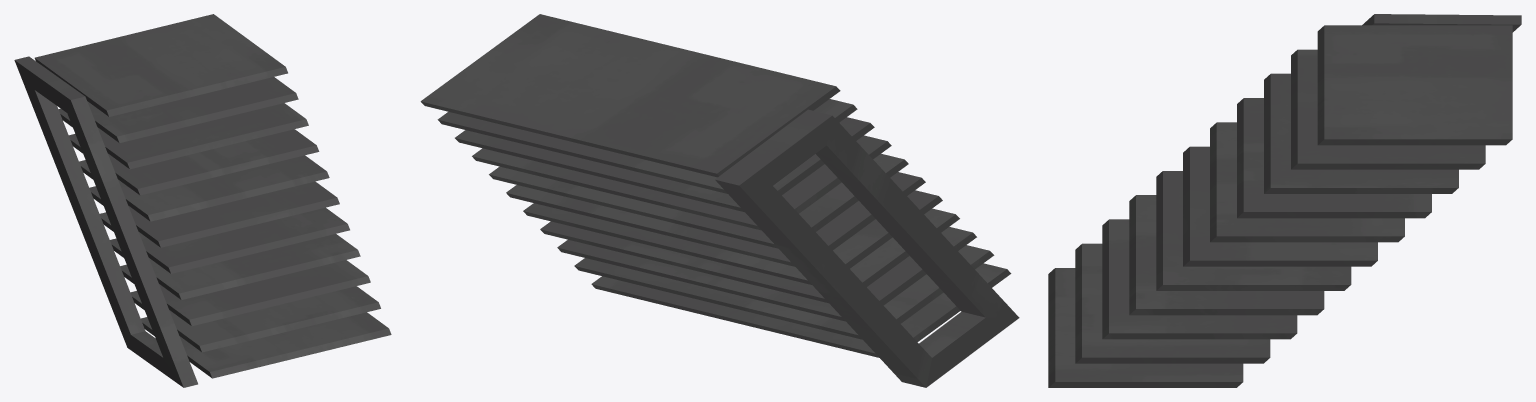
The model's file is En_W_stair1.fbx.
The picture shows the model from 3 angles, left to right: view 1: azimuth 30°, elevation 25°; view 2: azimuth 150°, elevation 25°; view 3: azimuth 270°, elevation 25°; orthographic projection. The views are drawn at different scales.
Visible parts, largest first — view 1: En_W_stair1; view 2: En_W_stair1; view 3: En_W_stair1.
Boxes of the visible parts, x1,y1,x2,y2 form: En_W_stair1: [14, 14, 391, 387]; En_W_stair1: [420, 14, 1019, 387]; En_W_stair1: [1048, 14, 1521, 387].
Bounding box in the file's own units: 200 × 201 × 321.
